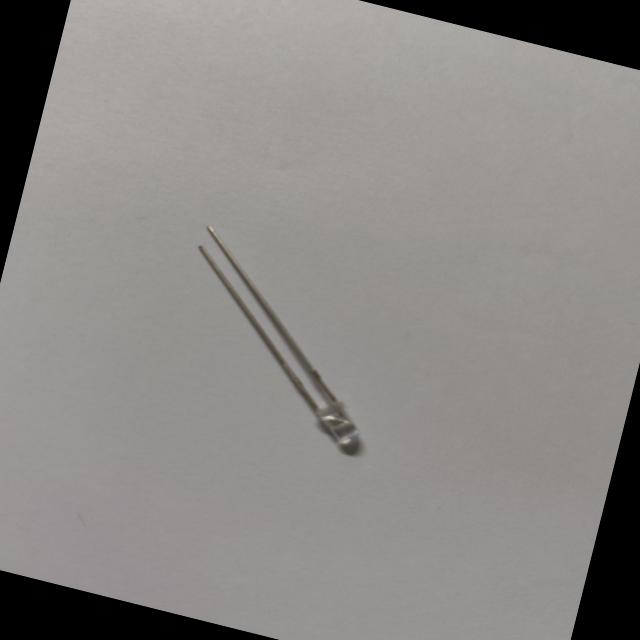led: (198, 226, 363, 456)
